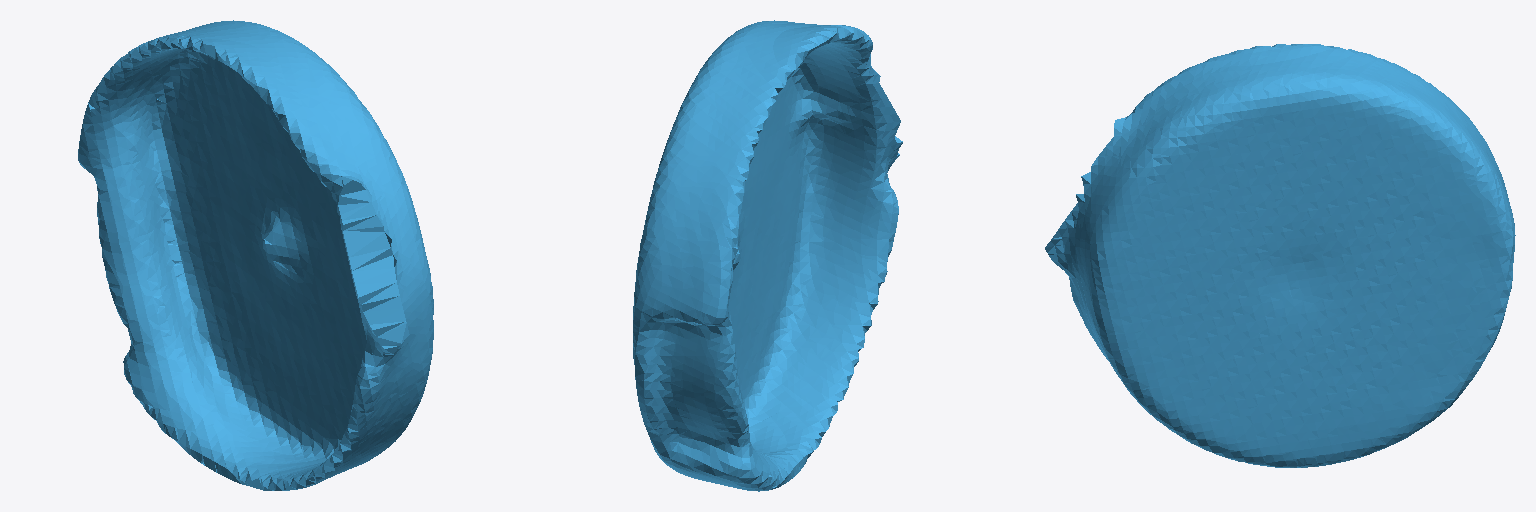
The robot description file, URDF, robot "ketchup":
<?xml version="1.0" ?>
<!-- This file was generated from obj_file/4x4x4_real.stl. -->
<robot name="ketchup">



  <!-- <link name="bottom">
    <visual>
      <origin xyz="0 0 0"/>
      <geometry>
        <mesh filename="./object_vtemplates/ketchup/bottom_support.obj" scale="0.001 0.0007 0.0007"/>
      </geometry>
    </visual>
    <collision>
      <origin xyz="0 0 0"/>
      <geometry>
        <mesh filename="./object_vtemplates/ketchup/bottom_support.obj" scale="0.001 0.0007 0.0007"/>
      </geometry>
    </collision>
    <inertial>
      <density value="567.0"/>
    </inertial>
  </link> -->

  <link name="bottom">
    <visual>
      <origin xyz="0 0 0"/>
      <geometry>
        <mesh filename="./object_vtemplates/ketchup/bottom.obj" scale="0.001 0.001 0.001"/>
      </geometry>
    </visual>
    <collision>
      <origin xyz="0 0 0"/>
      <geometry>
        <mesh filename="./object_vtemplates/ketchup/bottom_cd.obj" scale="0.001 0.001 0.001"/>
      </geometry>
    </collision>
    <inertial>
      <density value="567.0"/>
    </inertial>
  </link>

  <link name="top">
    <visual>
      <origin xyz="0 0 0"/>
      <geometry>
        <!-- <mesh filename="./object_vtemplates/ketchup/top.obj" scale="0.001 0.0007 0.0007"/> -->
        <mesh filename="./object_vtemplates/ketchup/top.obj" scale="0.001 0.001 0.001"/>
      </geometry>
    </visual>
    <collision>
      <origin xyz="0 0 0"/>
      <geometry>
        <!-- <mesh filename="./object_vtemplates/ketchup/top.obj" scale="0.001 0.0007 0.0007"/>
          -->
        <mesh filename="./object_vtemplates/ketchup/top.obj" scale="0.001 0.001 0.001"/>
      </geometry>
    </collision>
    <inertial>
      <density value="567.0"/>
    </inertial>
  </link>


  <joint name="joint1" type="revolute">
    <parent link="bottom"/>
    <child link="top"/>
    <origin rpy="0 0 0" xyz="0 0 0.0"/>
    <axis xyz="0 0 -1"/>
    <limit lower="0" upper="3.14"/>
    <!-- <limit effort="50.0" lower="0.000" upper="0.001" velocity="3.14"/>
    <dynamics damping="1.0" friction="1.0"/> -->
  </joint>

</robot>

--- Render facts (derived) ---
Views: 3 orthographic renders of the robot side by side, from view 1: azimuth 30°, elevation 25°; view 2: azimuth 150°, elevation 25°; view 3: azimuth 270°, elevation 25°.
Model ketchup with 2 links and 1 joints (1 revolute), rooted at bottom, posed every joint at zero.
Visible links, largest first — view 1: top; view 2: top; view 3: top.
Boxes of the visible links, bbox=[...] form: top: bbox=[78, 20, 433, 490]; top: bbox=[633, 20, 902, 491]; top: bbox=[1045, 44, 1515, 467].
Size in the robot's own frame: 0.017 by 0.0527 by 0.0487 metres.
Meshes: 2 distinct files referenced, 1 mesh visuals loaded (1 OBJ); not drawn: 1 (reference not matched to a file when rendering).
